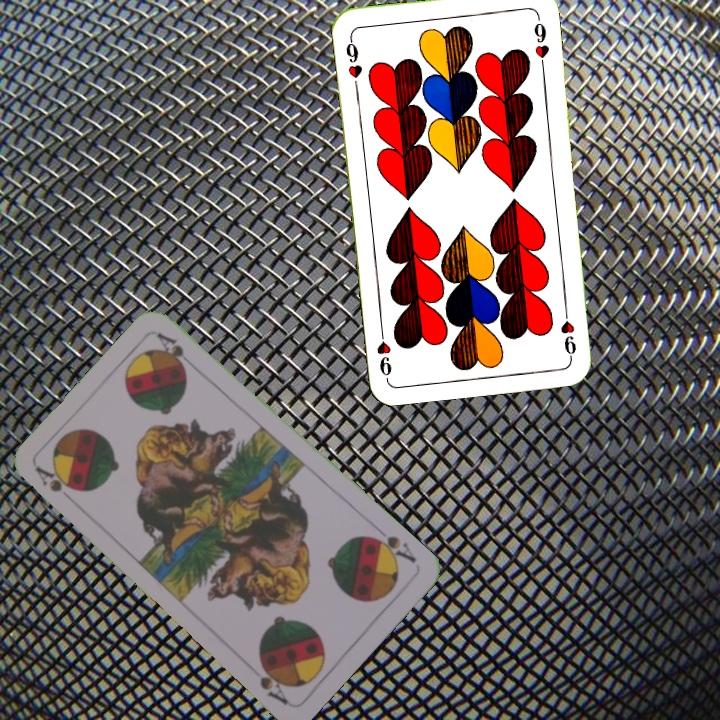H9: (341, 32, 365, 91), (557, 301, 579, 360)
SA: (364, 531, 419, 567), (32, 463, 73, 495)
